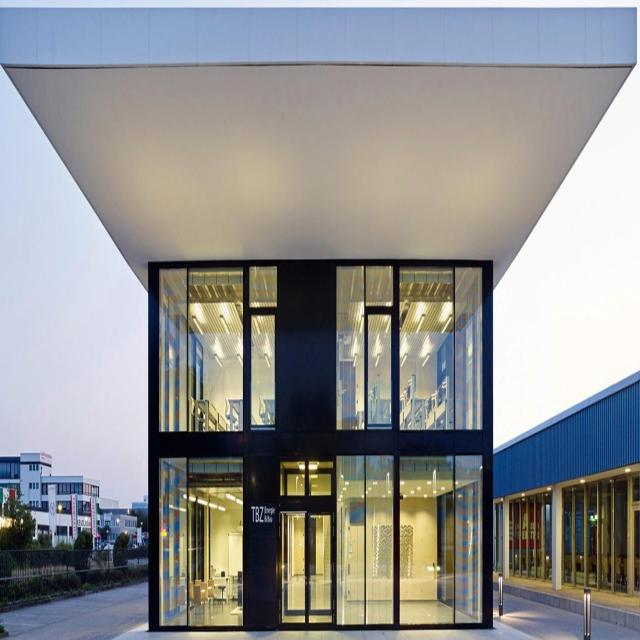door: (278, 466, 332, 630)
wall: (1, 0, 637, 637)
windows: (338, 455, 483, 623), (336, 266, 482, 427), (159, 270, 275, 428), (160, 460, 243, 623)
